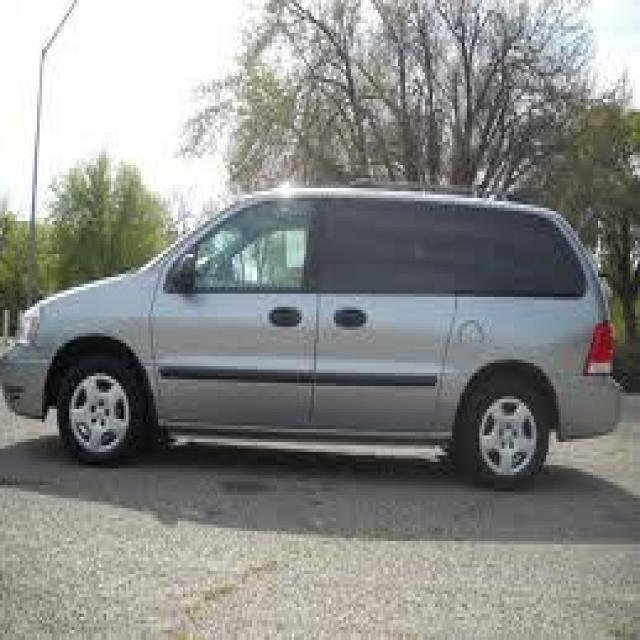car: (0, 177, 623, 489)
